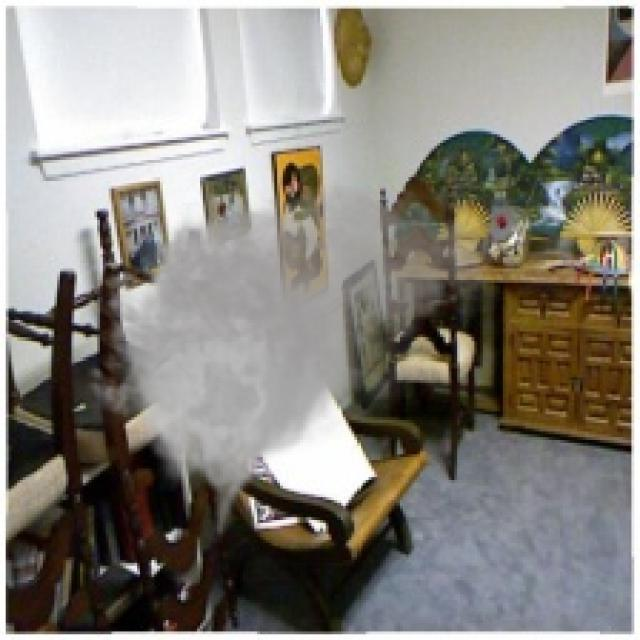Smoke: (74, 163, 500, 546)
